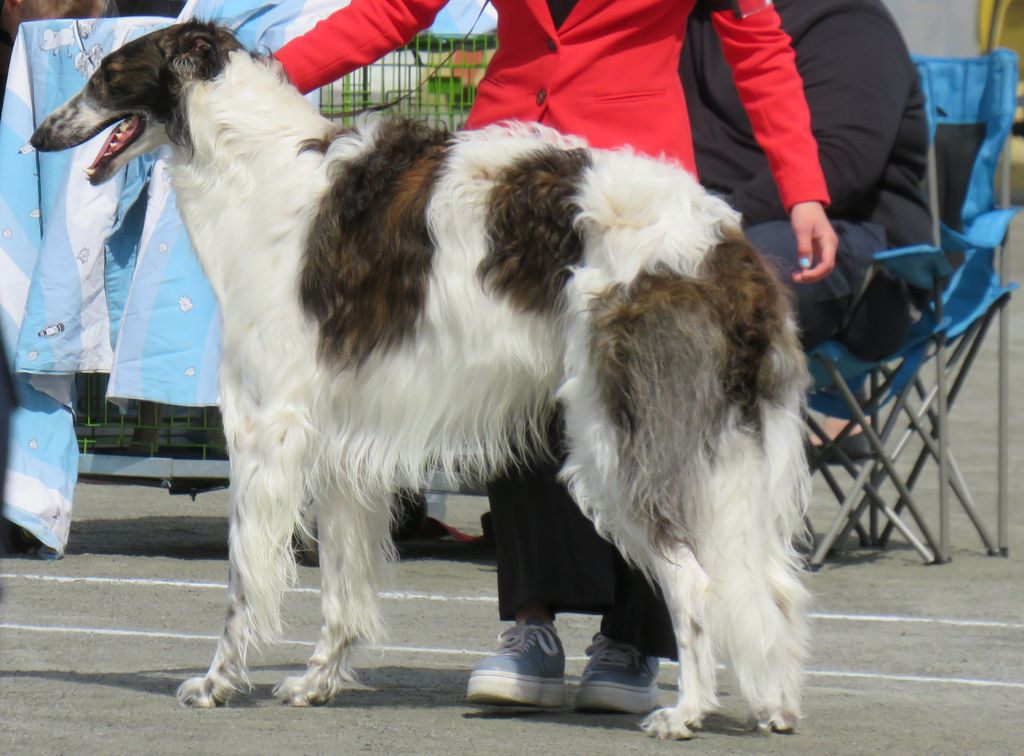borzoi: (24, 21, 843, 739)
